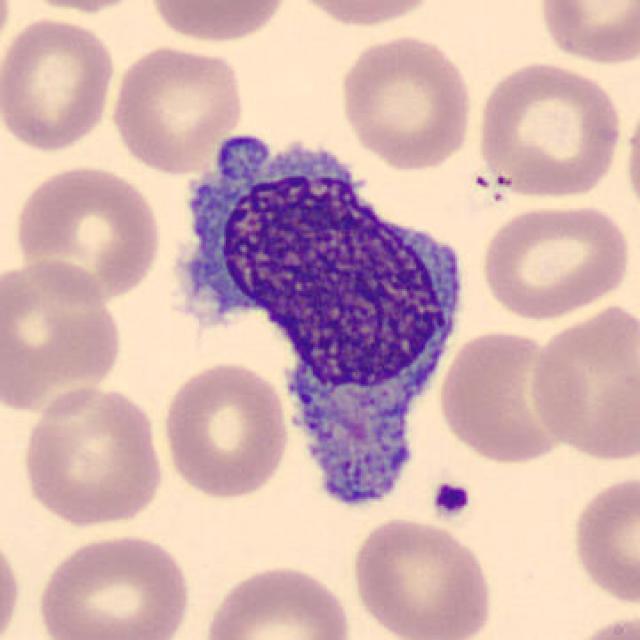Monocyte: (155, 115, 473, 502)
Platelets: (428, 478, 474, 522)
RBC: (11, 160, 165, 305), (473, 58, 626, 201), (18, 383, 167, 529), (434, 326, 583, 466), (0, 254, 126, 418), (336, 32, 476, 173), (476, 199, 634, 323), (522, 298, 640, 463), (158, 358, 292, 501), (347, 515, 498, 640), (107, 42, 247, 174), (32, 529, 196, 640), (0, 14, 119, 155), (199, 560, 355, 640), (566, 471, 638, 608), (533, 0, 640, 67), (144, 0, 293, 46), (284, 0, 444, 30), (0, 525, 25, 640), (622, 83, 640, 226), (9, 0, 155, 16), (563, 612, 640, 640), (0, 0, 14, 71)
